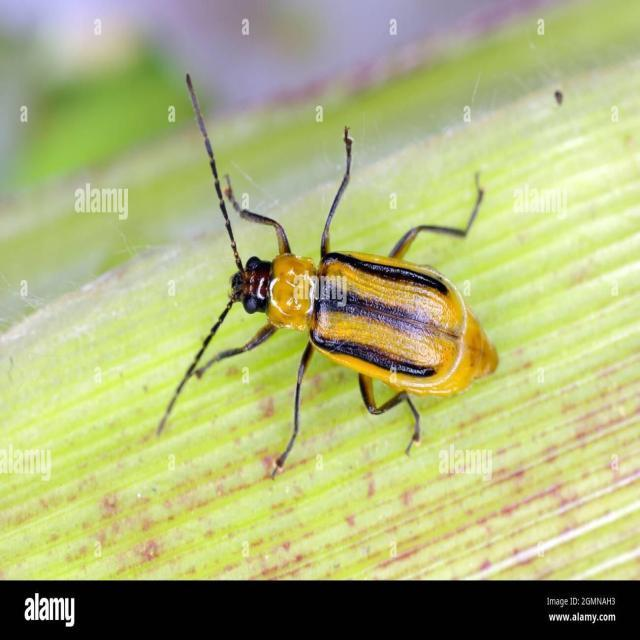trips: (155, 72, 498, 480)
